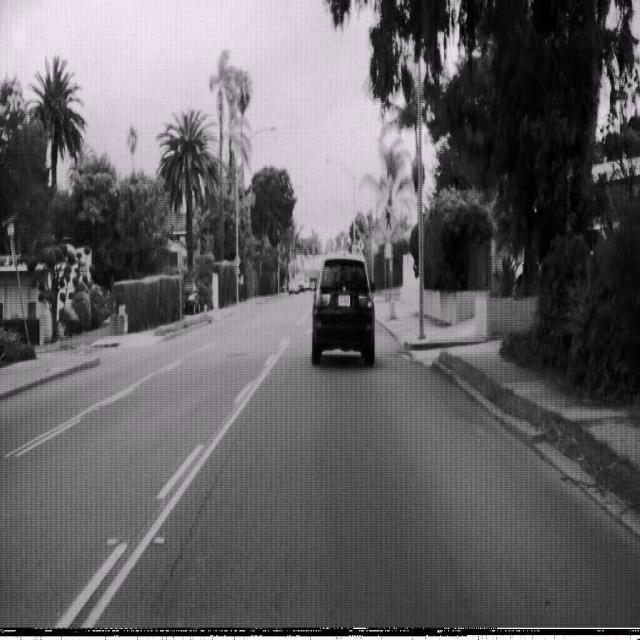pedestrianCrossing: (378, 201, 398, 242)
